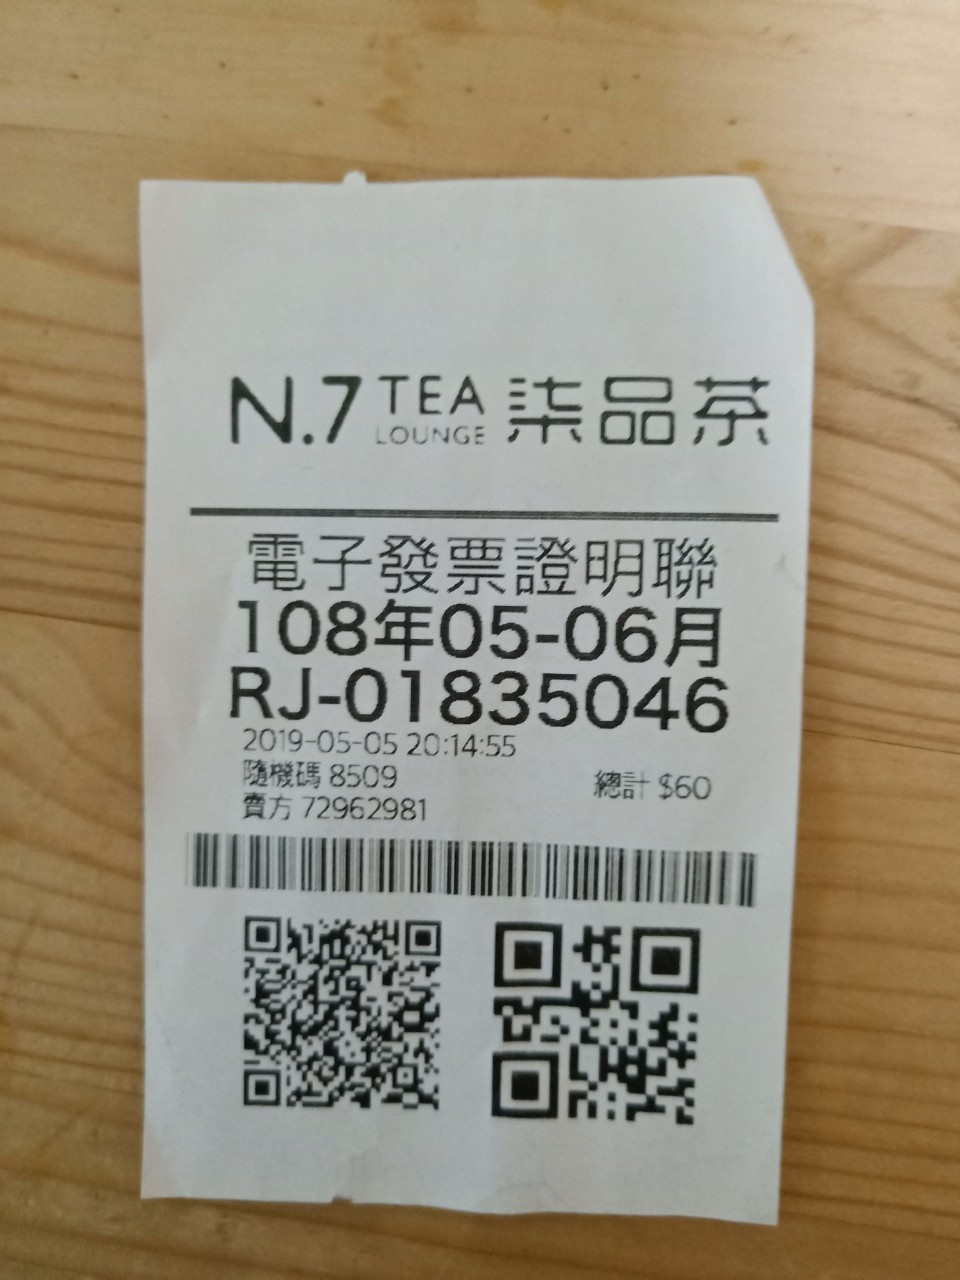Date_New: (234, 593, 728, 673)
Number_New: (340, 663, 733, 733)
